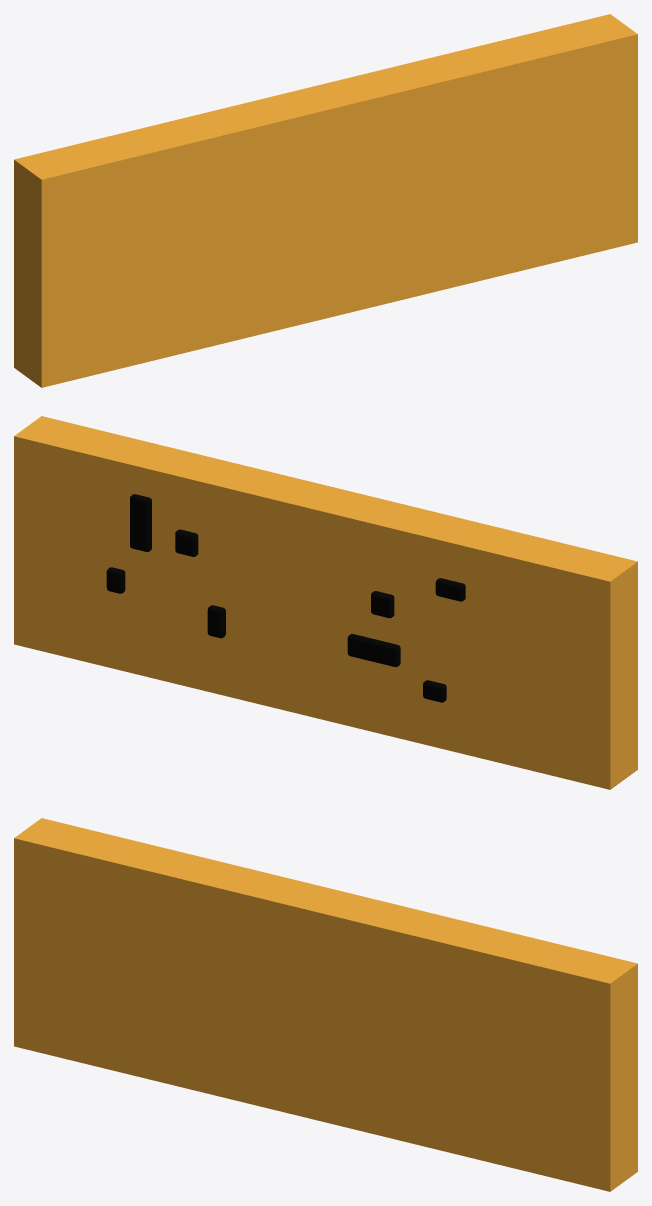
File: Roof Wall 1.fbx
3 views of the same model, one above another, from view 1: azimuth 30°, elevation 25°; view 2: azimuth 150°, elevation 25°; view 3: azimuth 330°, elevation 25° (orthographic).
Parts seen in each view (by area): view 1: Roof Wall 1; view 2: Roof Wall 1; view 3: Roof Wall 1.
Part boxes in pixels (x1,y1,x2,y2): Roof Wall 1: (14, 14, 637, 387); Roof Wall 1: (14, 416, 637, 789); Roof Wall 1: (14, 818, 637, 1191).
Size of the model in its own units: 249 by 83.06 by 26.32.
Materials: 1 (1 with a texture image).
